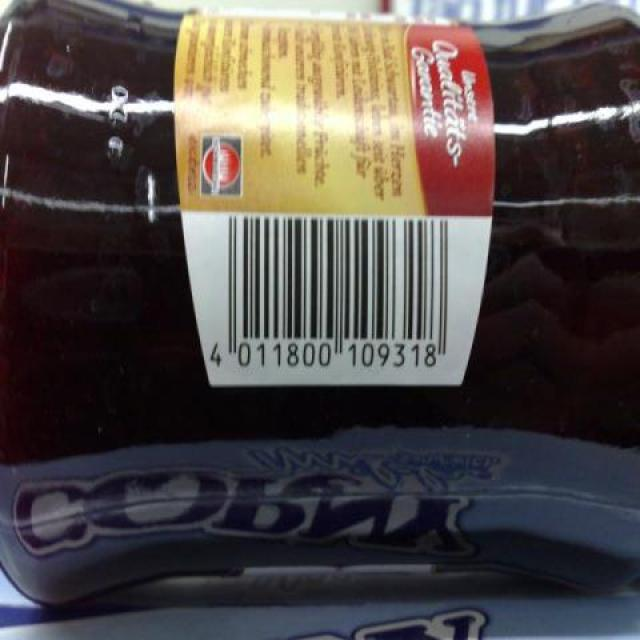Barcode: (201, 204, 462, 379)
